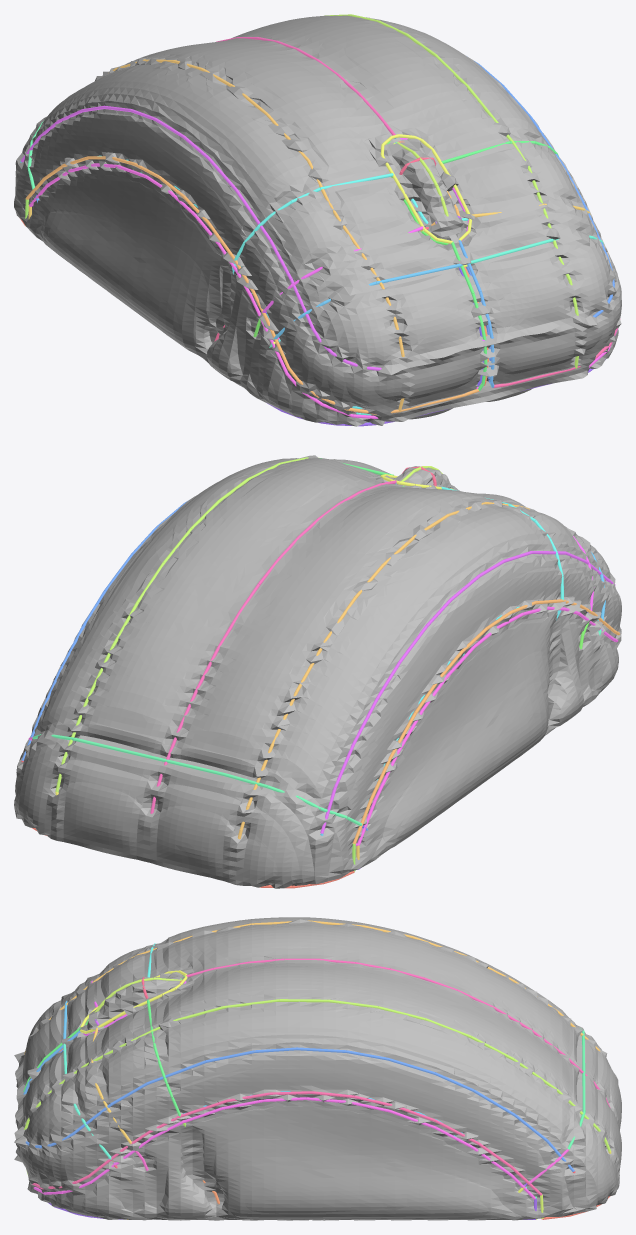
The model's file is flowrep_mouse.gltf.
3 renders of one model, top to bottom at view 1: azimuth 30°, elevation 25°; view 2: azimuth 150°, elevation 25°; view 3: azimuth 270°, elevation 25°, orthographic. The views are drawn at different scales.
Size of the model in its own units: 0.5235 by 0.3413 by 0.8584.
